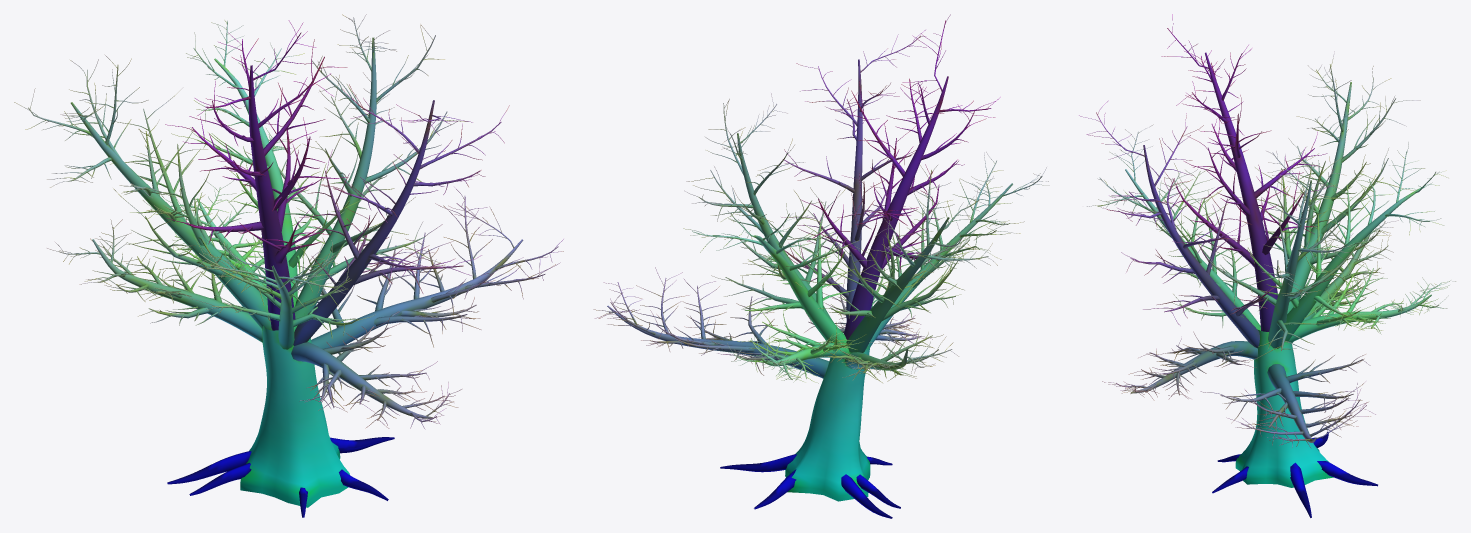
File: maple-hero.glb
3 views of the same model, side by side, from view 1: azimuth 30°, elevation 25°; view 2: azimuth 150°, elevation 25°; view 3: azimuth 270°, elevation 25° (orthographic). The views are drawn at different scales.
Visible parts, largest first — view 1: bark; view 2: bark; view 3: bark.
Part boxes in pixels (box(x1,y1,x2,y2)): bark: box(14, 14, 563, 517); bark: box(593, 14, 1049, 518); bark: box(1079, 14, 1455, 517).
Bounding box in the file's own units: 20.11 × 20.64 × 16.42.
